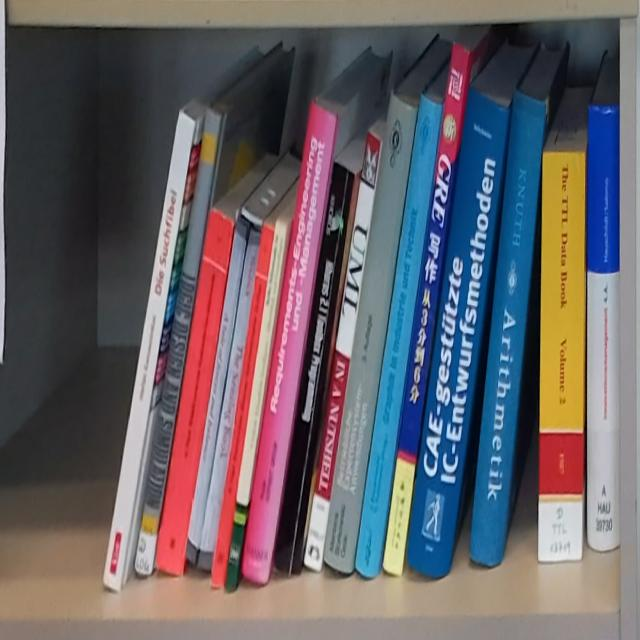Book Spine: (407, 85, 509, 582), (382, 39, 473, 576), (241, 99, 338, 583), (325, 92, 418, 574), (102, 111, 194, 592), (355, 92, 443, 578), (134, 105, 224, 574), (469, 88, 550, 568), (304, 131, 382, 573), (273, 162, 356, 575), (155, 210, 234, 573), (211, 219, 275, 586), (226, 220, 288, 592), (185, 218, 249, 568), (196, 230, 261, 569), (538, 153, 587, 562), (588, 105, 621, 553)
